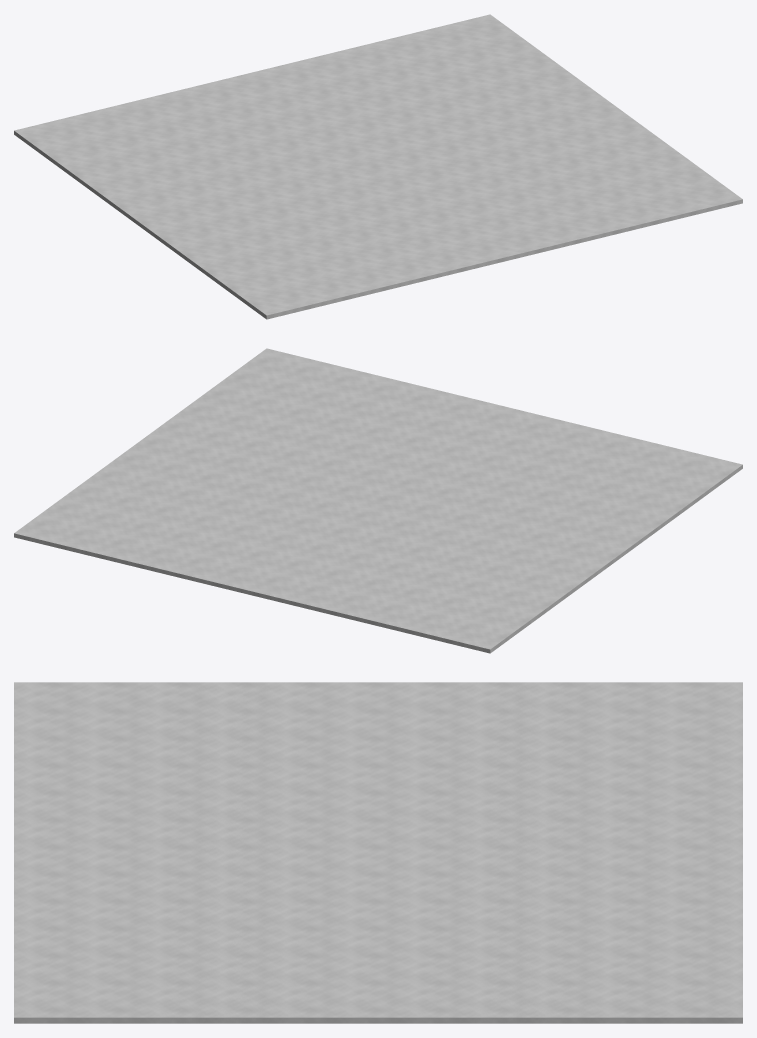
The model's file is ceiling.glb.
3 renders of one model, top to bottom at view 1: azimuth 30°, elevation 25°; view 2: azimuth 150°, elevation 25°; view 3: azimuth 270°, elevation 25°, orthographic. The views are drawn at different scales.
Parts seen in each view (by area): view 1: ceiling_Concrete; view 2: ceiling_Concrete; view 3: ceiling_Concrete.
Part boxes in pixels (<box>): ceiling_Concrete: <box>14,14,742,319</box>; ceiling_Concrete: <box>14,348,742,653</box>; ceiling_Concrete: <box>14,682,742,1023</box>.
Size of the model in its own units: 24.7 by 0.35 by 22.7.
Materials: 2 (1 with a texture image).
